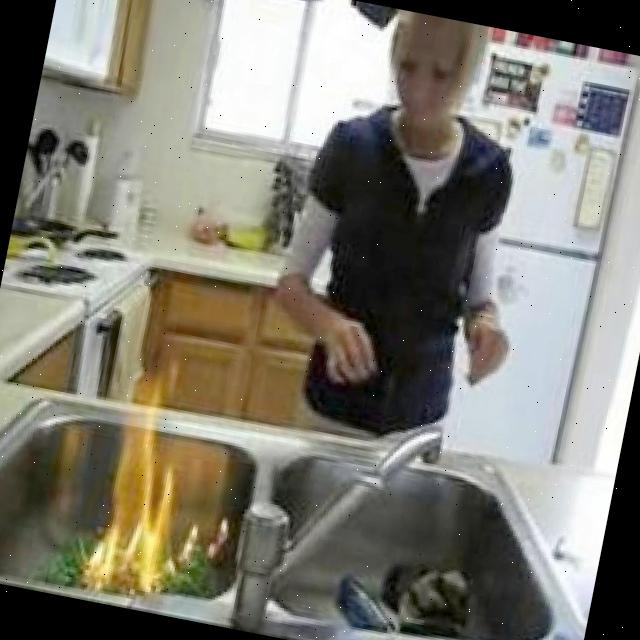fire: (80, 377, 214, 599), (159, 500, 238, 582)
